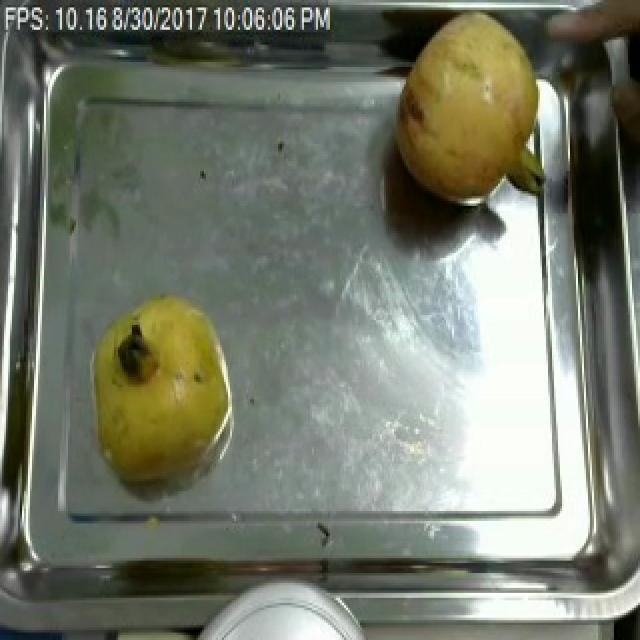fruit: (78, 280, 240, 499), (390, 5, 550, 221)
